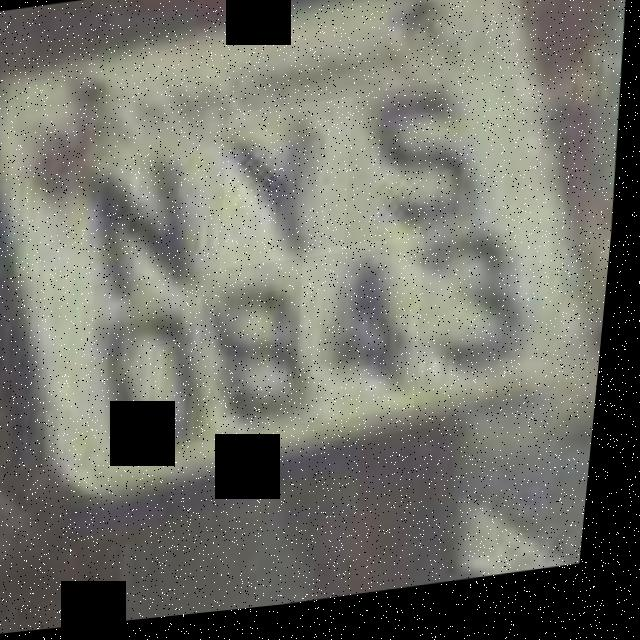0: (87, 273, 227, 460)
3: (384, 219, 564, 418)
4: (297, 243, 436, 432)
8: (196, 259, 323, 444)
N: (75, 137, 219, 307)
S: (364, 100, 504, 262)
Y: (220, 104, 361, 275)
